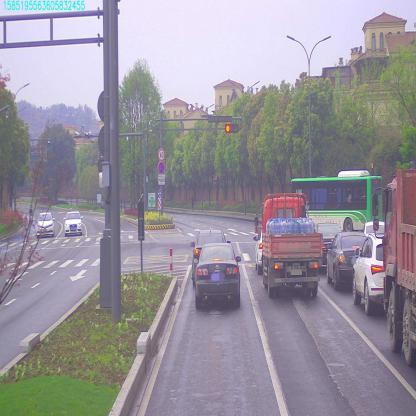traffic-light: (225, 124, 239, 134)
